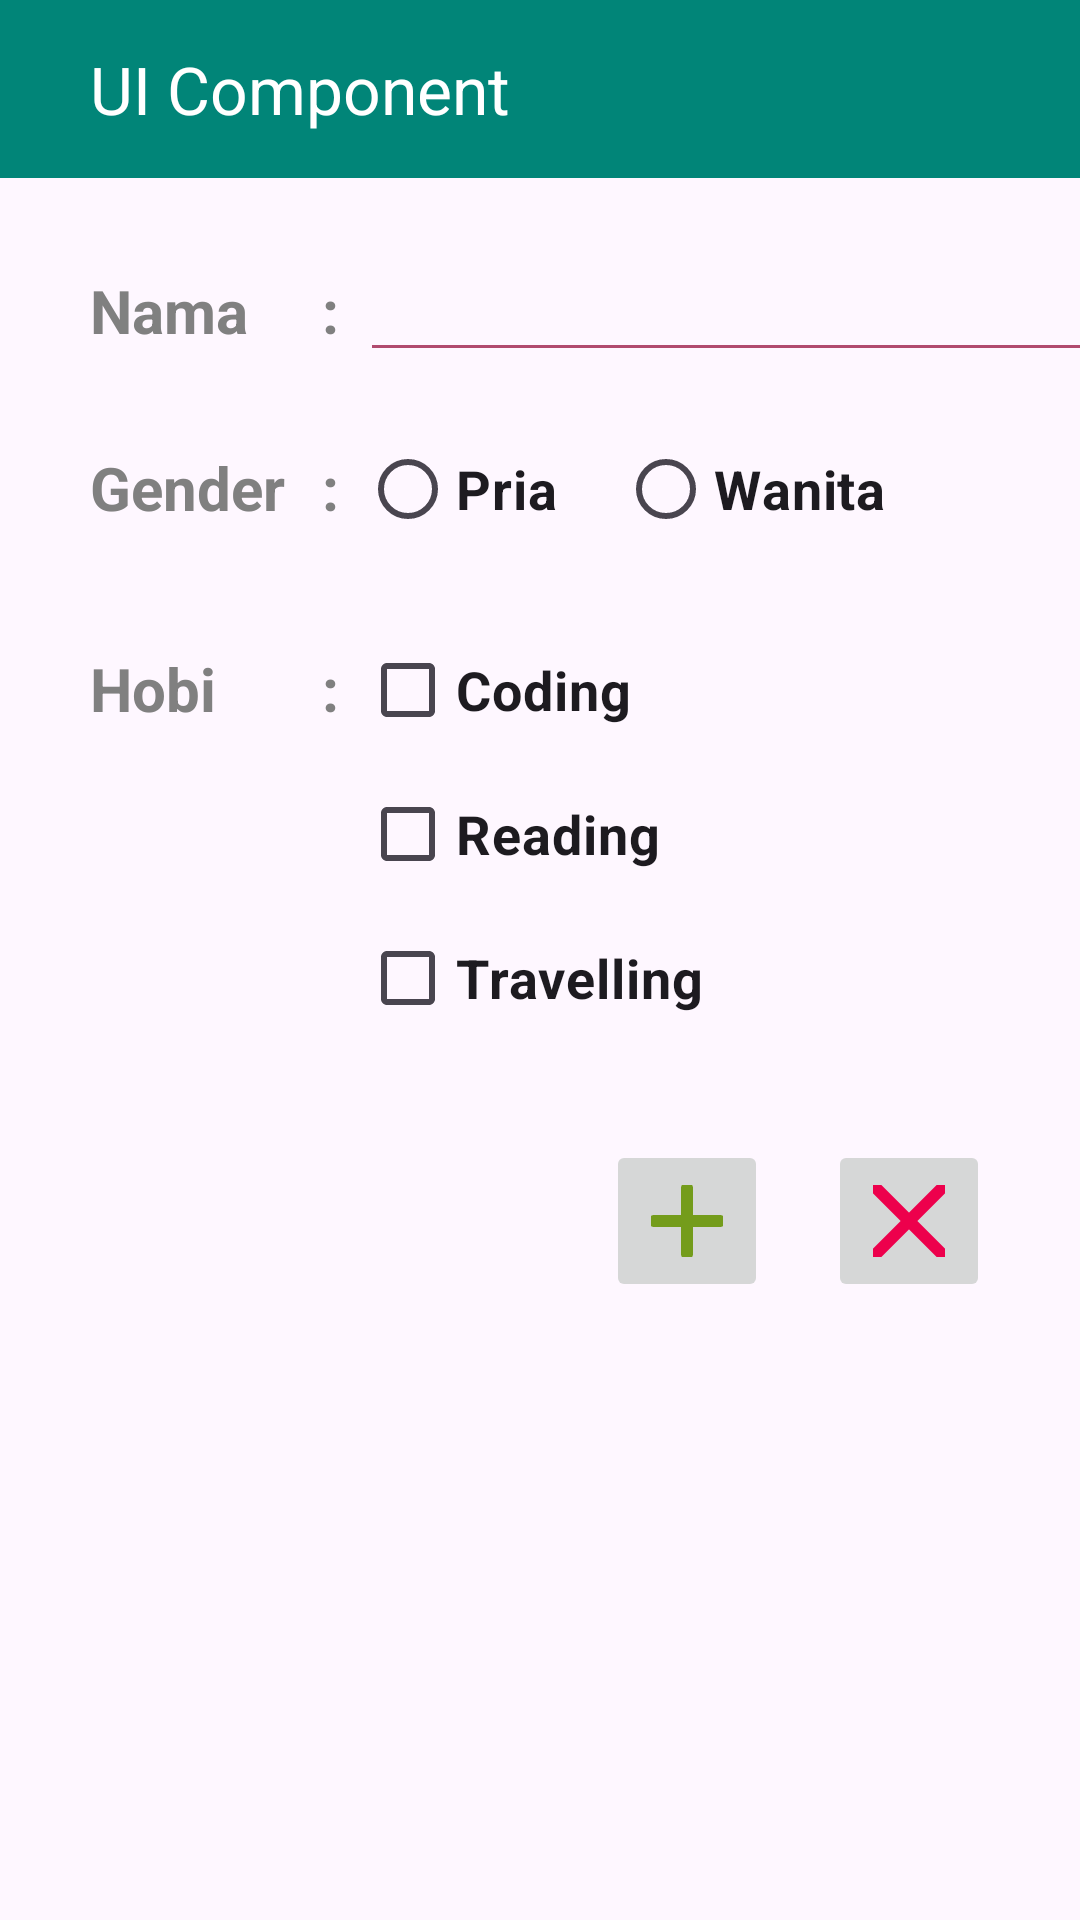

Icon click points for this 1080x1920 phone screenshot, format (x=x, y=y):
Hapus: (x=909, y=1221)
Tambah: (x=687, y=1221)
